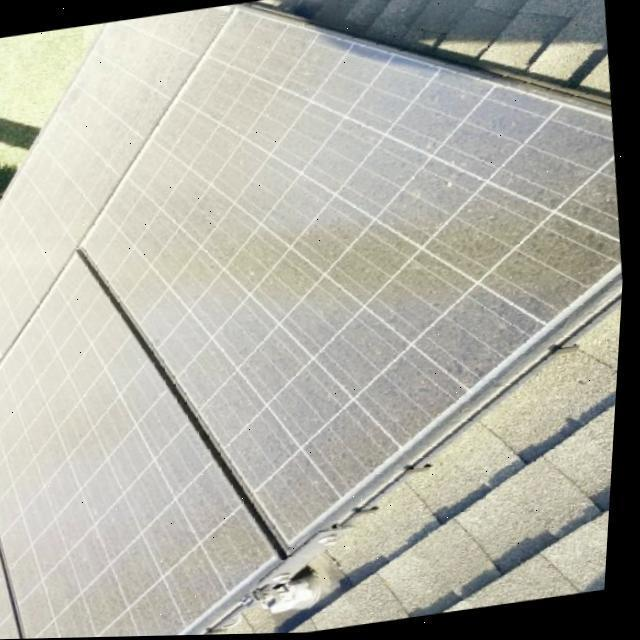Anomaly Solar Panel: (83, 2, 624, 545), (0, 247, 284, 639), (0, 6, 220, 356)
Surface Contaminant: (93, 7, 623, 537), (0, 257, 275, 639), (0, 7, 222, 350)
